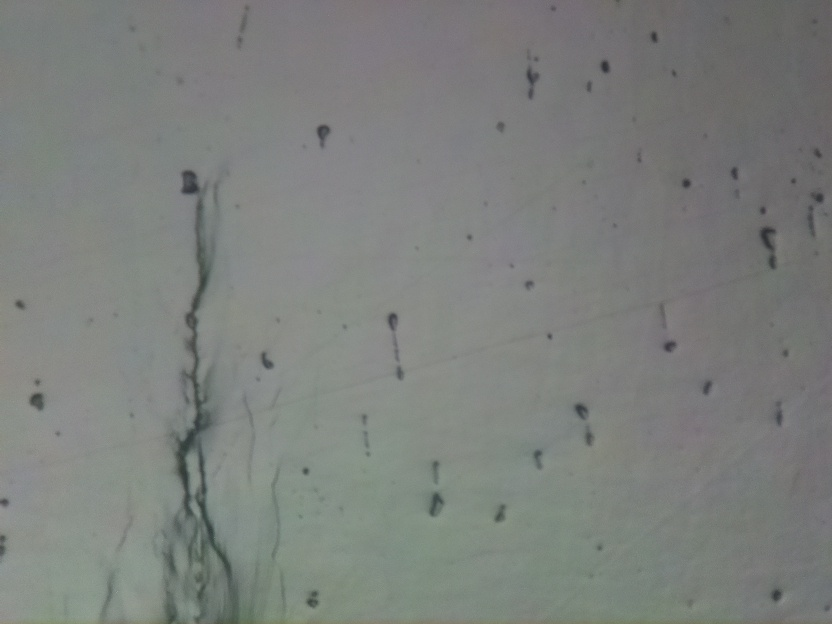crack: (170, 176, 234, 583)
